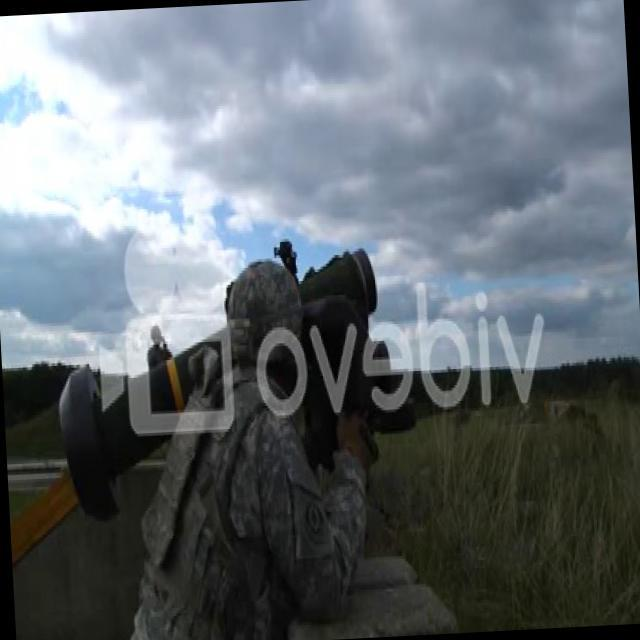rocket: (57, 248, 382, 520)
